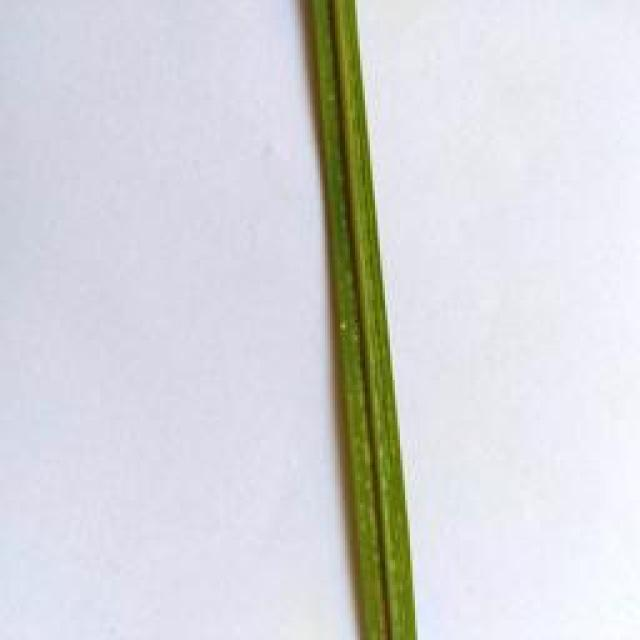Healthy-Plant: (294, 0, 429, 640)
